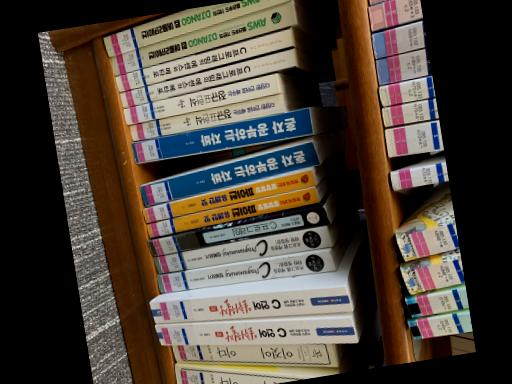book-spine: (110, 0, 294, 76), (139, 142, 319, 207), (114, 28, 293, 92), (102, 0, 288, 57), (119, 49, 295, 107), (131, 108, 312, 163), (141, 170, 315, 223), (147, 206, 328, 256), (152, 225, 331, 274), (146, 187, 317, 237), (123, 73, 277, 124), (156, 249, 334, 293), (128, 93, 283, 141), (148, 287, 350, 322), (154, 317, 355, 345), (171, 343, 337, 367), (173, 365, 317, 384)
